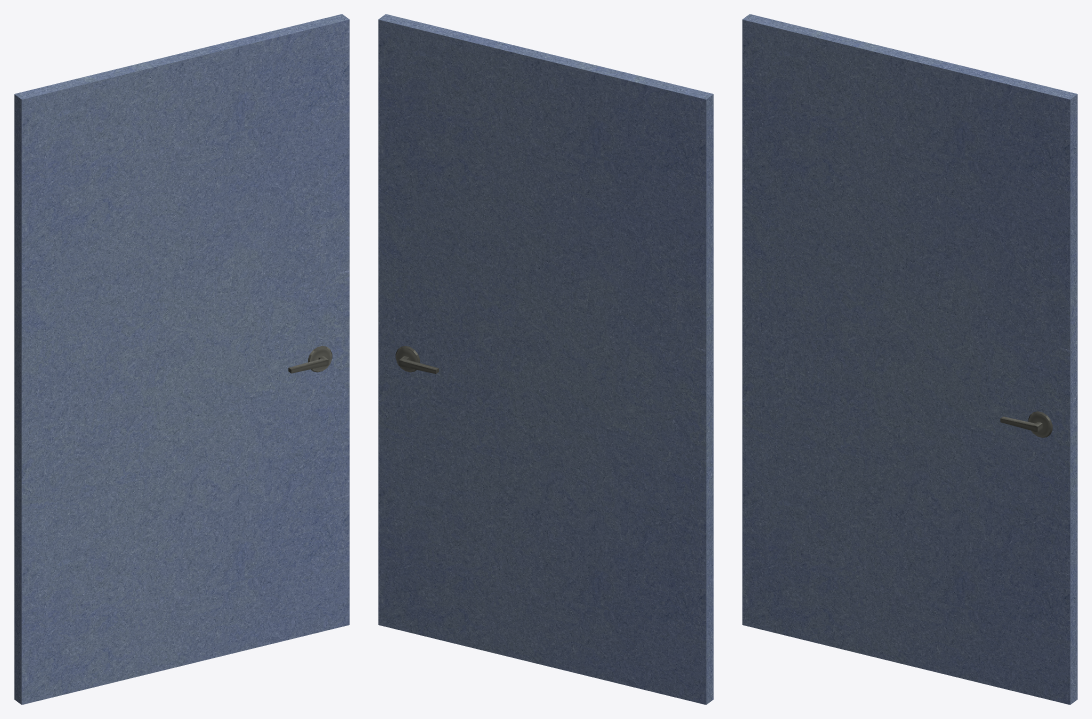
File: BathroomDoor.fbx
3 views of the same model, side by side, from view 1: azimuth 30°, elevation 25°; view 2: azimuth 150°, elevation 25°; view 3: azimuth 330°, elevation 25° (orthographic).
Parts seen in each view (by area): view 1: Cube.041; view 2: Cube.041; view 3: Cube.041.
Part boxes in pixels (x1,y1,x2,y2): Cube.041: [14, 14, 349, 704]; Cube.041: [378, 14, 713, 704]; Cube.041: [742, 14, 1077, 704].
Bounding box in the file's own units: 330 × 582 × 34.33.
1 material, 1 textured.
